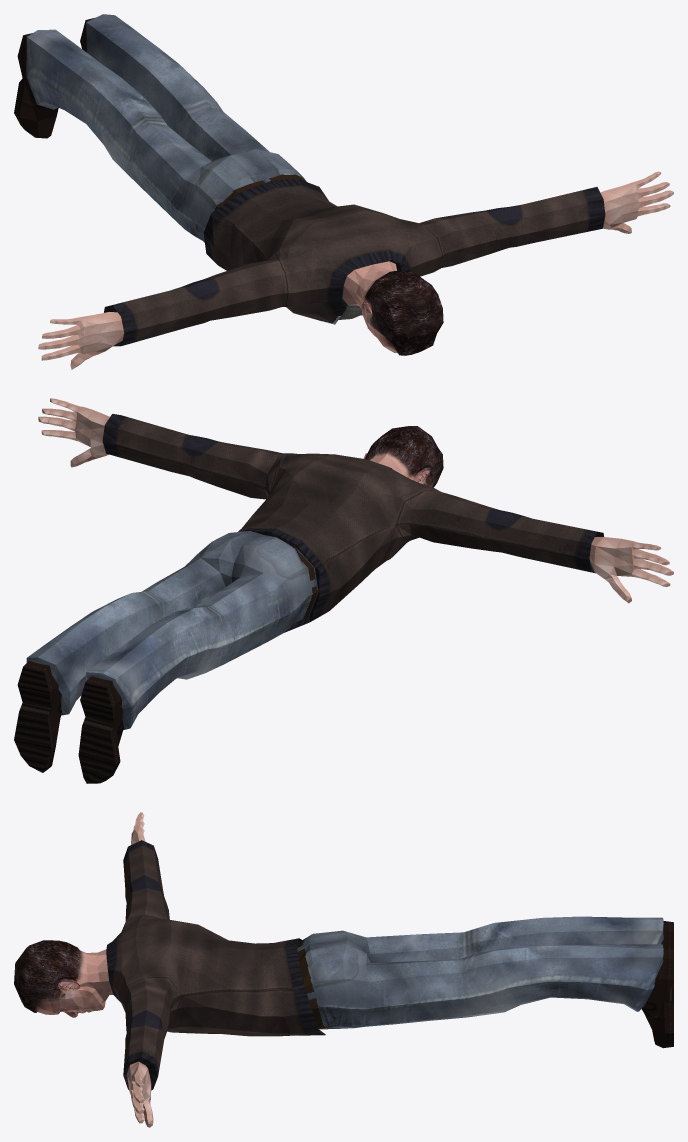
Rendered from tomdrinman5_3k_wtf.obj.
The picture shows the model from 3 angles, top to bottom: view 1: azimuth 30°, elevation 25°; view 2: azimuth 150°, elevation 25°; view 3: azimuth 270°, elevation 25°; orthographic projection. The views are drawn at different scales.
Parts seen in each view (by area): view 1: group1; view 2: group1; view 3: group1.
Part boxes in pixels (box(x1,y1,x2,y2)): group1: box(14, 14, 673, 369); group1: box(14, 398, 673, 783); group1: box(14, 812, 673, 1127).
Size of the model in its own units: 660 by 113 by 647.
